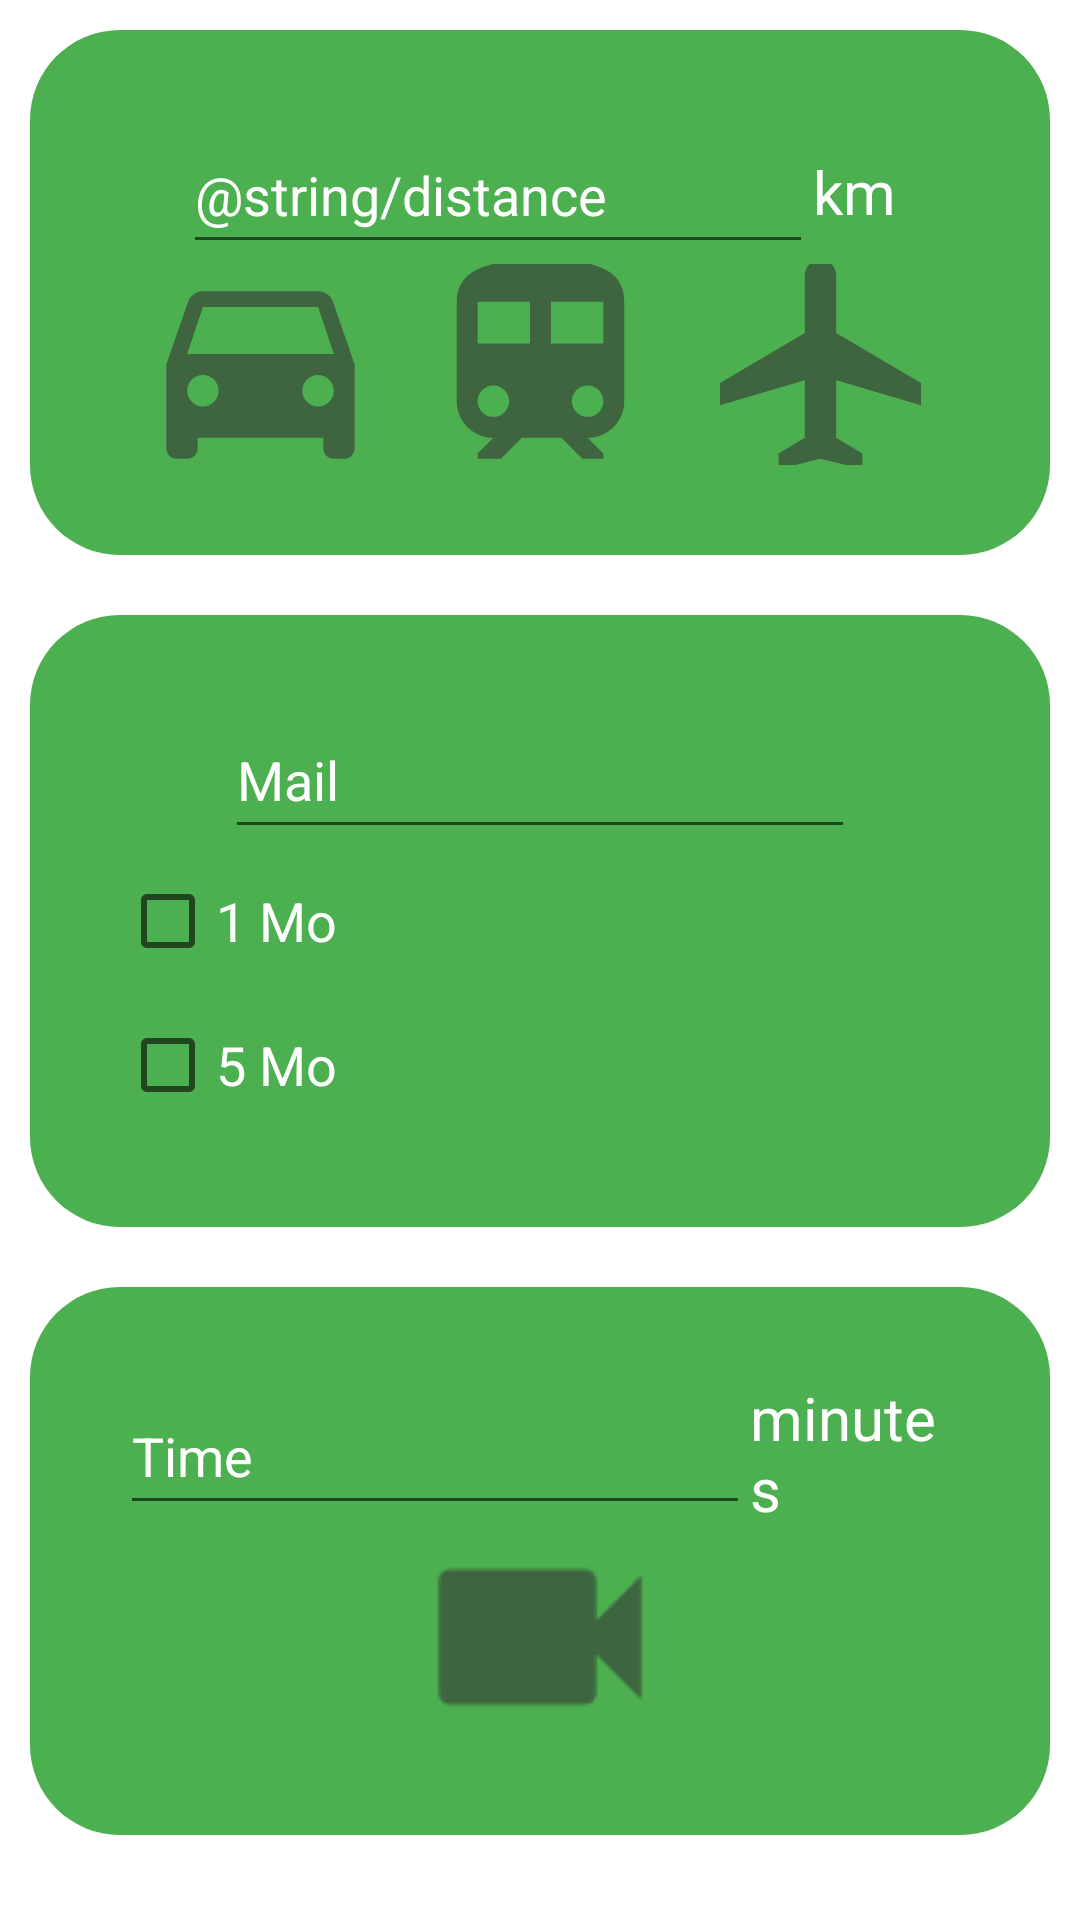

Icons on this 1080*1920 Android screen, each with its box as region(x1, y1, x2, y2):
Car: region(166, 291, 355, 459)
Plane: region(720, 264, 921, 465)
Train: region(457, 264, 624, 459)
Visio: region(438, 1568, 642, 1706)
